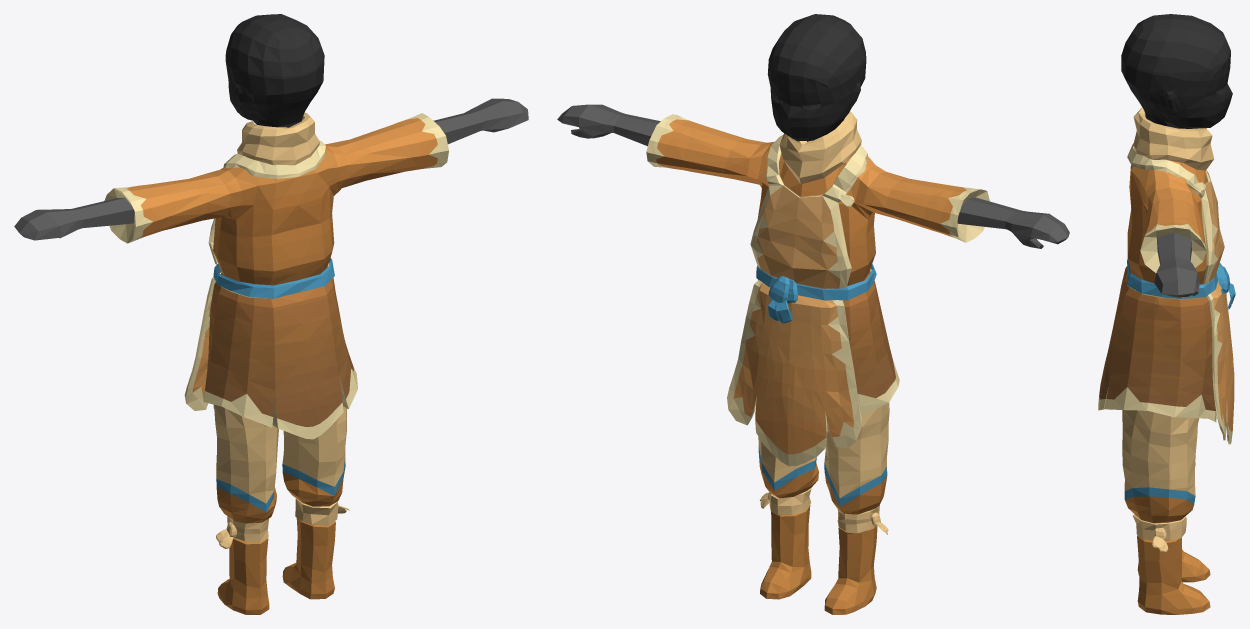
Rendered from CharSkyKid_Body_AP12YellowTunic_01.glb.
3 views of the same model, side by side, from view 1: azimuth 30°, elevation 25°; view 2: azimuth 150°, elevation 25°; view 3: azimuth 270°, elevation 25° (orthographic).
Visible parts, largest first — view 1: CharSkyKid_Body_AP12YellowTunic_01; view 2: CharSkyKid_Body_AP12YellowTunic_01; view 3: CharSkyKid_Body_AP12YellowTunic_01.
Part boxes in pixels (x1,y1,x2,y2): CharSkyKid_Body_AP12YellowTunic_01: (14, 14, 528, 614); CharSkyKid_Body_AP12YellowTunic_01: (557, 14, 1069, 614); CharSkyKid_Body_AP12YellowTunic_01: (1098, 14, 1235, 614).
Size of the model in its own units: 13.83 by 14.92 by 3.25.
1 material, 1 textured.
